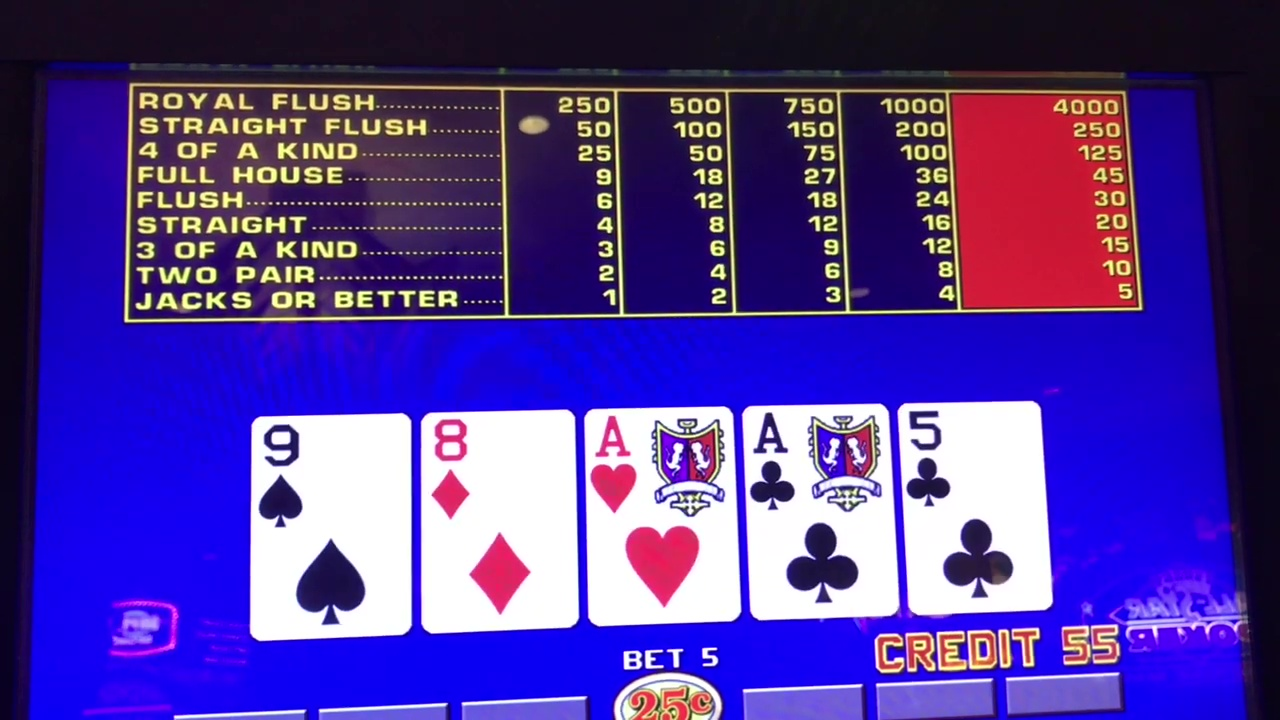AH: (591, 409, 727, 622)
C5: (911, 398, 1040, 613)
CA: (746, 407, 888, 616)
D8: (427, 417, 572, 628)
S9: (254, 418, 404, 633)
